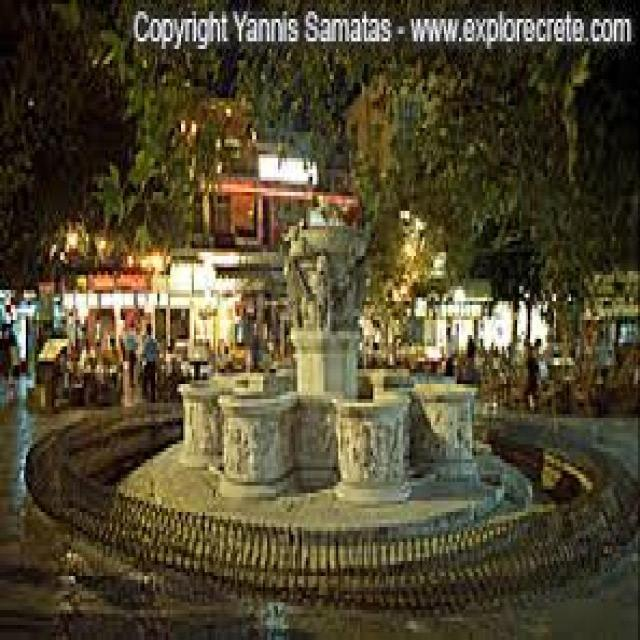Liontaria: (181, 217, 478, 511)
